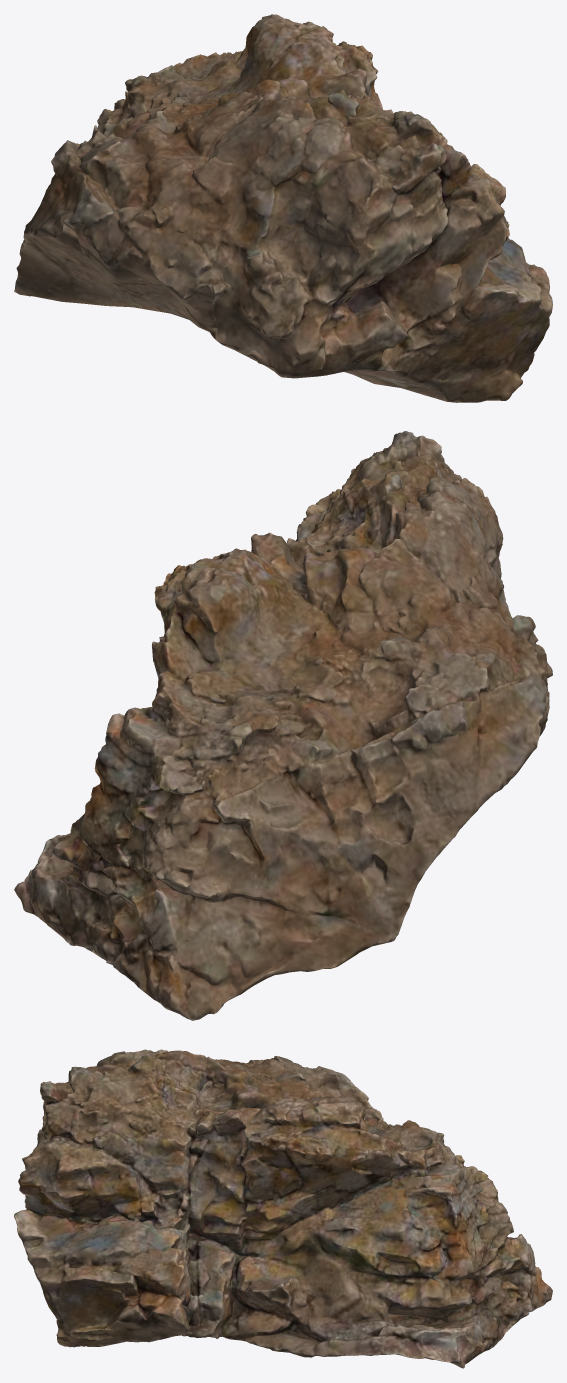
The model's file is boulder_01.glb.
3 renders of one model, top to bottom at view 1: azimuth 30°, elevation 25°; view 2: azimuth 150°, elevation 25°; view 3: azimuth 270°, elevation 25°, orthographic. The views are drawn at different scales.
Parts seen in each view (by area): view 1: boulder_01; view 2: boulder_01; view 3: boulder_01.
Boxes of the visible parts, box(x1,y1,x2,y2) form: boulder_01: box(14, 14, 552, 402); boulder_01: box(14, 431, 552, 1020); boulder_01: box(14, 1049, 552, 1368).
Bounding box in the file's own units: 1.27 × 1 × 1.83.
1 material, 1 textured.
